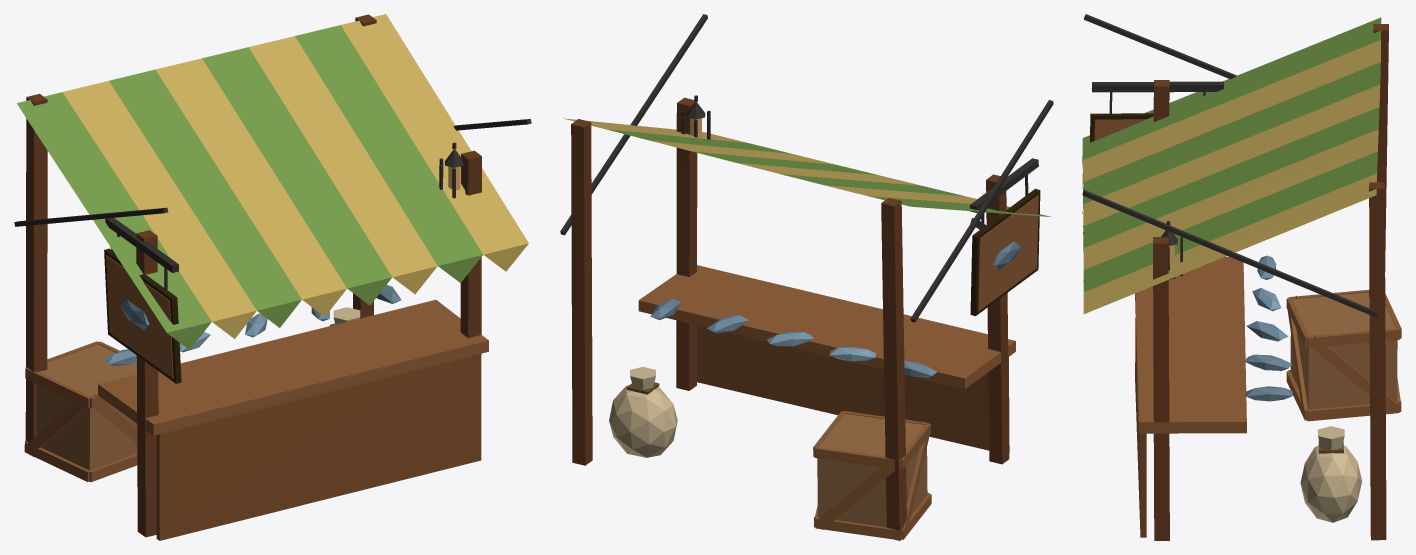
Rendered from fish-stall.glb.
3 renders of one model, left to right at view 1: azimuth 30°, elevation 25°; view 2: azimuth 150°, elevation 25°; view 3: azimuth 270°, elevation 25°, orthographic. The views are drawn at different scales.
Parts seen in each view (by area): view 1: props/fish-stall; view 2: props/fish-stall; view 3: props/fish-stall.
Part boxes in pixels (left/top/right/bottom): props/fish-stall: left=14, top=14, right=531, bottom=540; props/fish-stall: left=560, top=14, right=1053, bottom=540; props/fish-stall: left=1082, top=14, right=1401, bottom=540.
Bounding box in the file's own units: 2.75 × 2.54 × 2.05.
